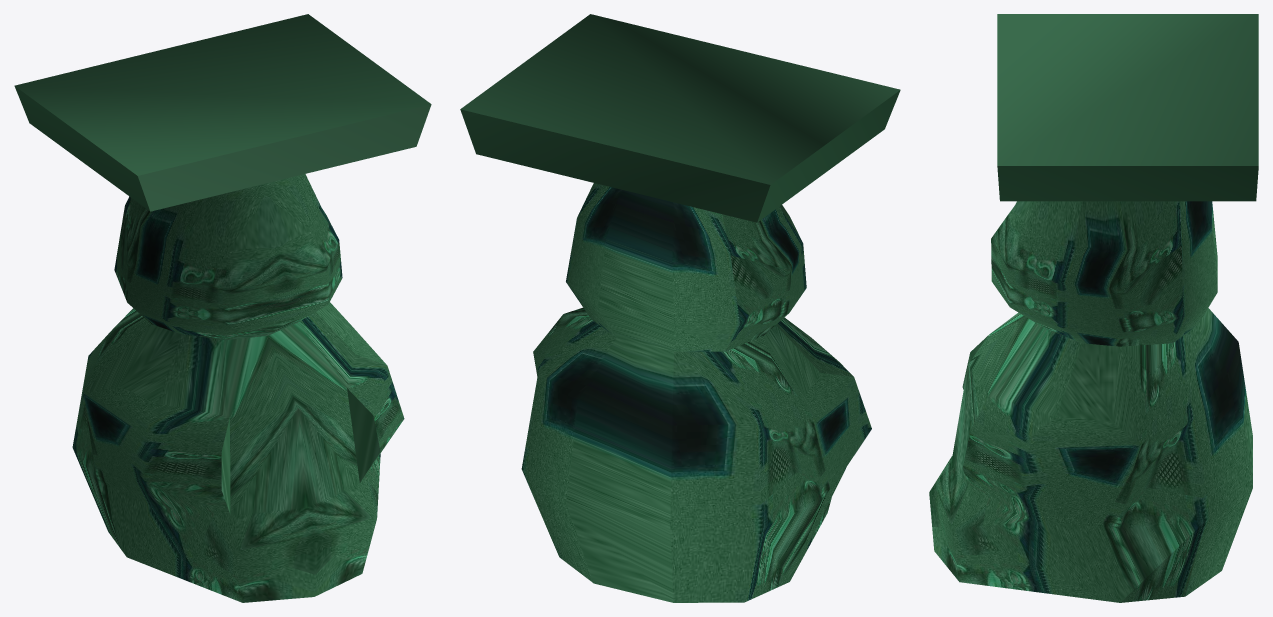
File: actor.obj
3 renders of one model, left to right at view 1: azimuth 30°, elevation 25°; view 2: azimuth 150°, elevation 25°; view 3: azimuth 270°, elevation 25°, orthographic. The views are drawn at different scales.
Visible parts, largest first — view 1: actor; view 2: actor; view 3: actor.
Part boxes in pixels (<box>): actor: <box>14,14,431,602</box>; actor: <box>460,14,900,602</box>; actor: <box>929,14,1258,602</box>.
Bounding box in the file's own units: 4.98 × 7.04 × 4.56.
1 material, 1 textured.
